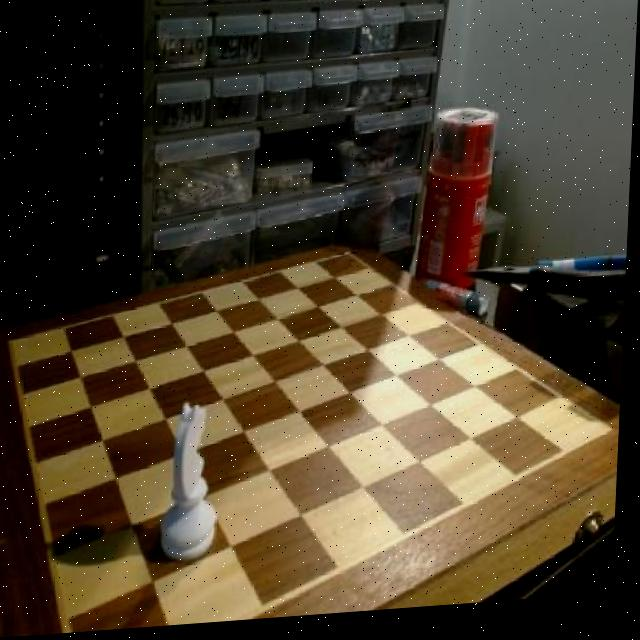white-king: (160, 400, 229, 571)
